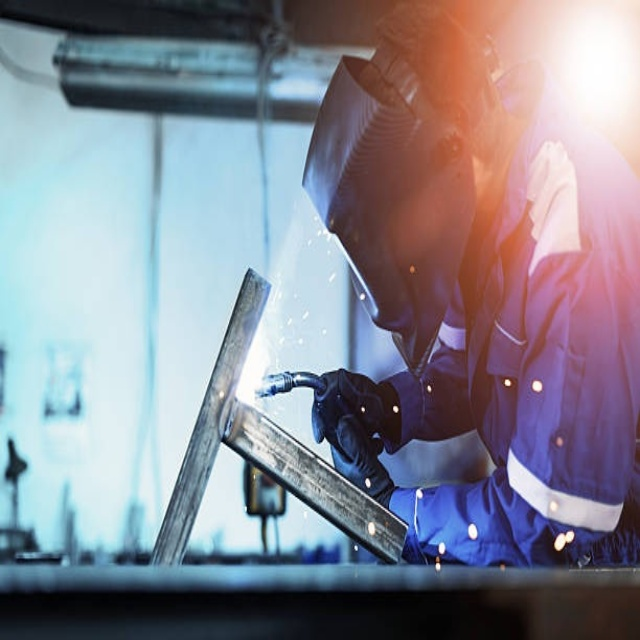Guantes: (312, 358, 395, 507)
